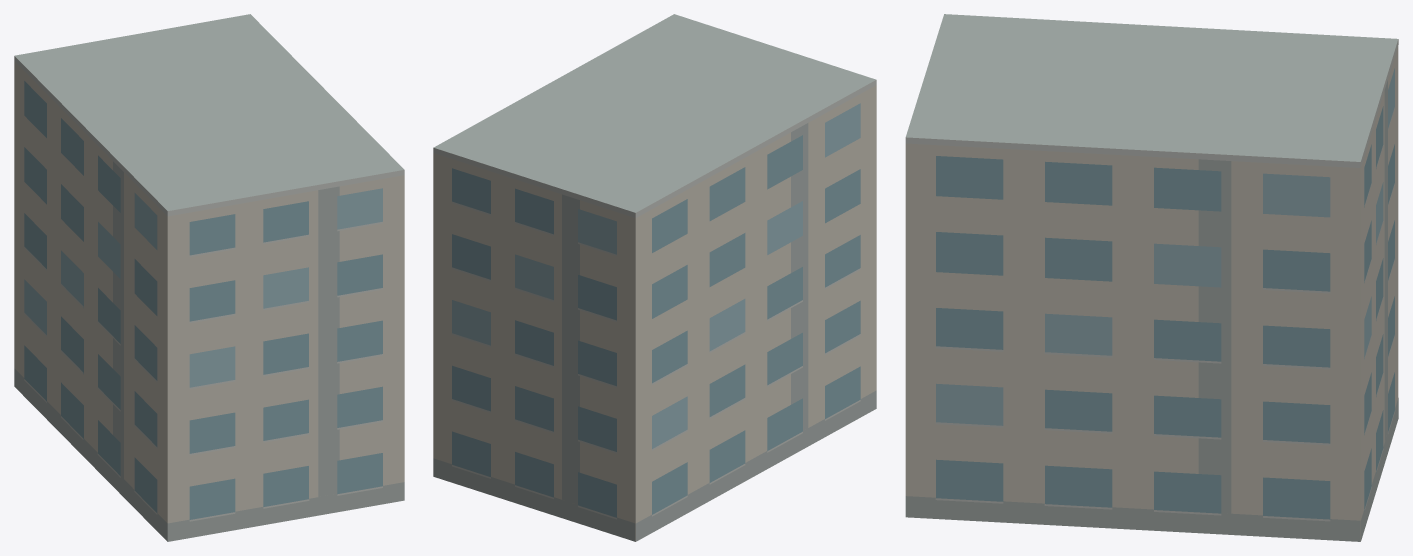
The model's file is survey-upis-32805632.glb.
3 views of the same model, side by side, from view 1: azimuth 30°, elevation 25°; view 2: azimuth 150°, elevation 25°; view 3: azimuth 270°, elevation 25° (orthographic). The views are drawn at different scales.
Visible parts, largest first — view 1: survey-upis-32805632.tmp; view 2: survey-upis-32805632.tmp; view 3: survey-upis-32805632.tmp.
Part boxes in pixels (box(x1,y1,x2,y2)): survey-upis-32805632.tmp: box(14, 14, 404, 541); survey-upis-32805632.tmp: box(433, 14, 876, 541); survey-upis-32805632.tmp: box(905, 14, 1398, 541).
Bounding box in the file's own units: 12.75 × 15.25 × 17.94.
